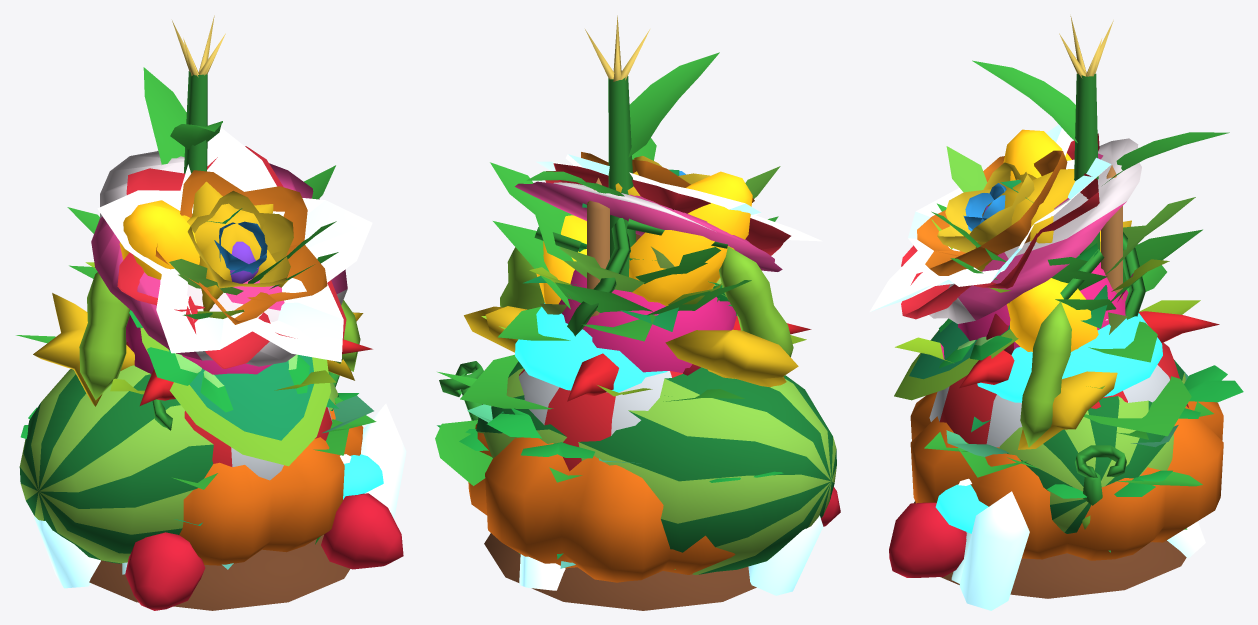
File: crops.glb
3 views of the same model, side by side, from view 1: azimuth 30°, elevation 25°; view 2: azimuth 150°, elevation 25°; view 3: azimuth 270°, elevation 25° (orthographic). The views are drawn at different scales.
Parts seen in each view (by area): view 1: crop_melon, crop_moonflower, crop_bean, crop_pumpkin, crop_rainbowrose, crop_berry, crop_goldcorn, crop_radish, crop_candy, crop_star, crop_iceberry, crop_clover (+6 smaller); view 2: crop_melon, crop_pumpkin, crop_goldcorn, crop_radish, crop_bean, crop_magnetmelon, crop_dragonfruit, crop_star, crop_candy, crop_carrot, crop_glowshroom, crop_rainbowrose (+6 smaller); view 3: crop_pumpkin, crop_goldcorn, crop_rainbowrose, crop_bean, crop_melon, crop_candy, crop_radish, crop_glowshroom, crop_magnetmelon, crop_iceberry, crop_berry, crop_star (+7 smaller).
Boxes of the visible parts, x1,y1,x2,y2 form: crop_melon: (19,365,339,563); crop_moonflower: (97,128,372,362); crop_bean: (79,272,360,466); crop_pumpkin: (152,399,363,565); crop_rainbowrose: (117,146,346,368); crop_berry: (125,396,403,610); crop_goldcorn: (16,15,225,343); crop_radish: (69,252,350,610); crop_candy: (91,151,347,366); crop_star: (33,181,363,406); crop_iceberry: (34,403,406,588); crop_clover: (20,310,358,438); crop_melon: (435,361,836,574); crop_pumpkin: (460,354,735,582); crop_goldcorn: (437,15,752,401); crop_radish: (484,216,778,610); crop_bean: (500,178,793,375); crop_magnetmelon: (498,306,682,471); crop_dragonfruit: (481,267,806,396); crop_star: (464,171,798,569); crop_candy: (515,181,782,271); crop_carrot: (490,138,780,292); crop_glowshroom: (515,303,667,392); crop_rainbowrose: (545,152,790,396); crop_pumpkin: (910,376,1223,560); crop_goldcorn: (972,16,1229,439); crop_rainbowrose: (901,133,1099,319); crop_bean: (894,165,1166,529); crop_melon: (999,360,1202,533); crop_candy: (929,138,1141,323); crop_radish: (914,203,1202,598); crop_glowshroom: (935,313,1162,583); crop_magnetmelon: (929,321,1188,456); crop_iceberry: (959,491,1205,610); crop_berry: (889,401,1213,577); crop_star: (975,169,1187,529).
Bounding box in the file's own units: 0.6249 × 0.895 × 0.5849.
